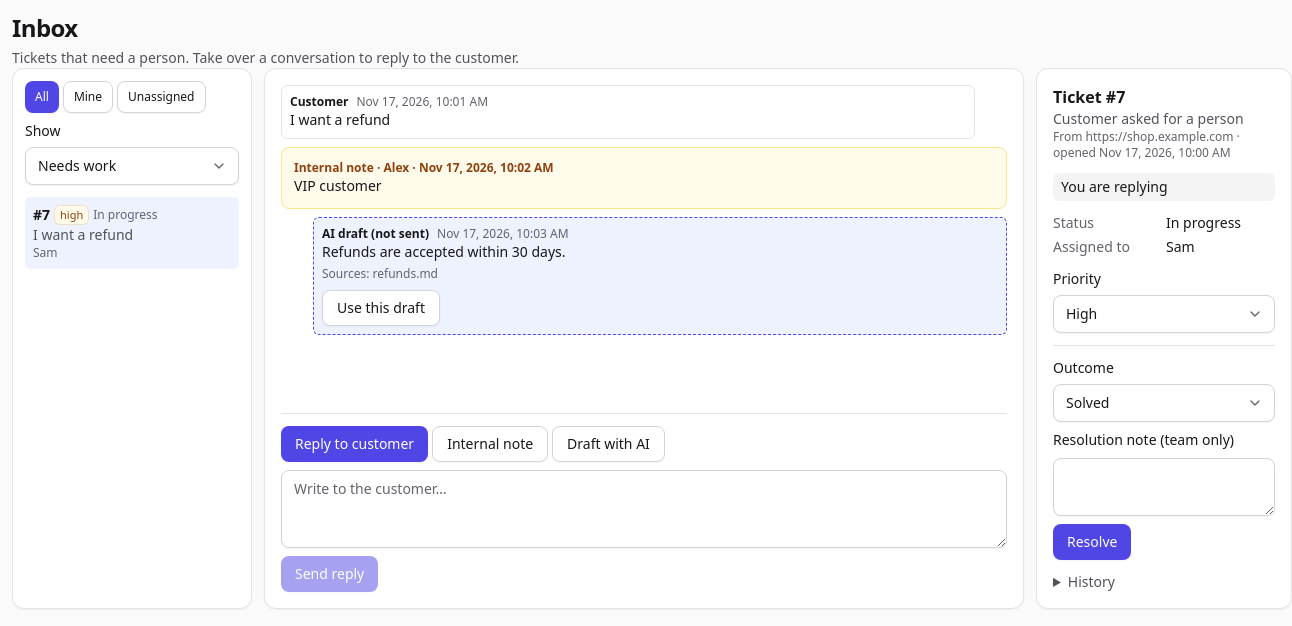
Test: agent inbox › lets the person working on it resolve with an outcome
Select "Duplicate" in the dropdown labelled "Outcome" at (1164, 403), box [1053,384,1275,422]
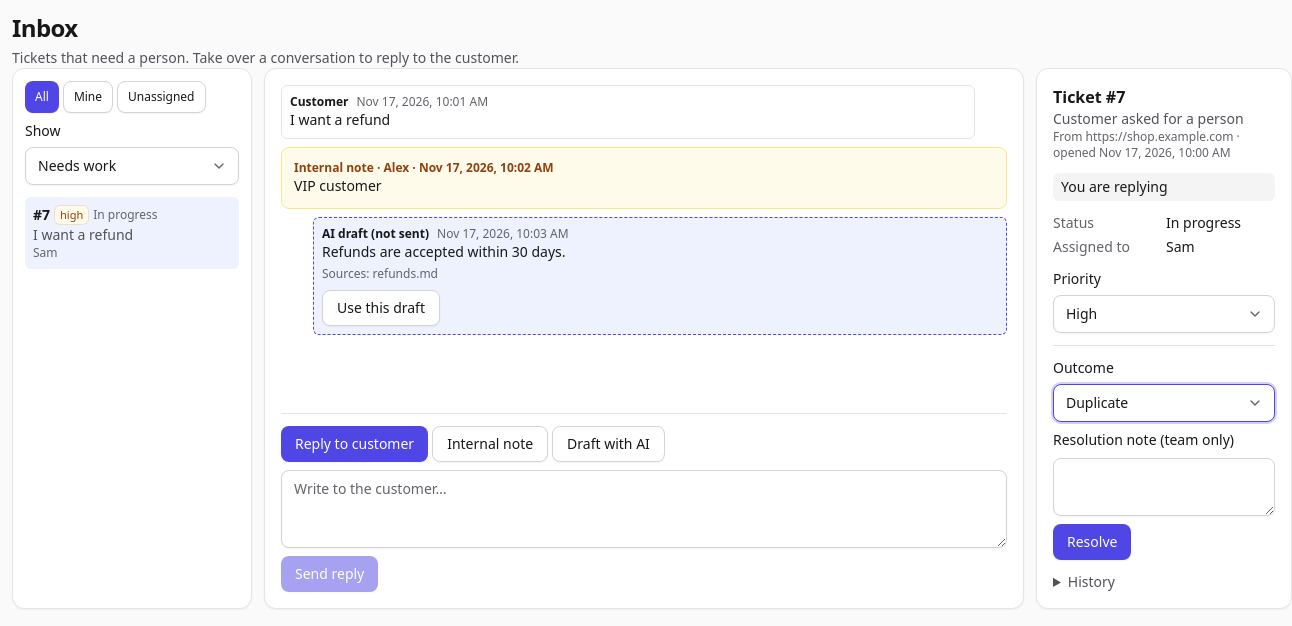
Click the button "Resolve".
click(1092, 542)  # box [1053,524,1131,560]
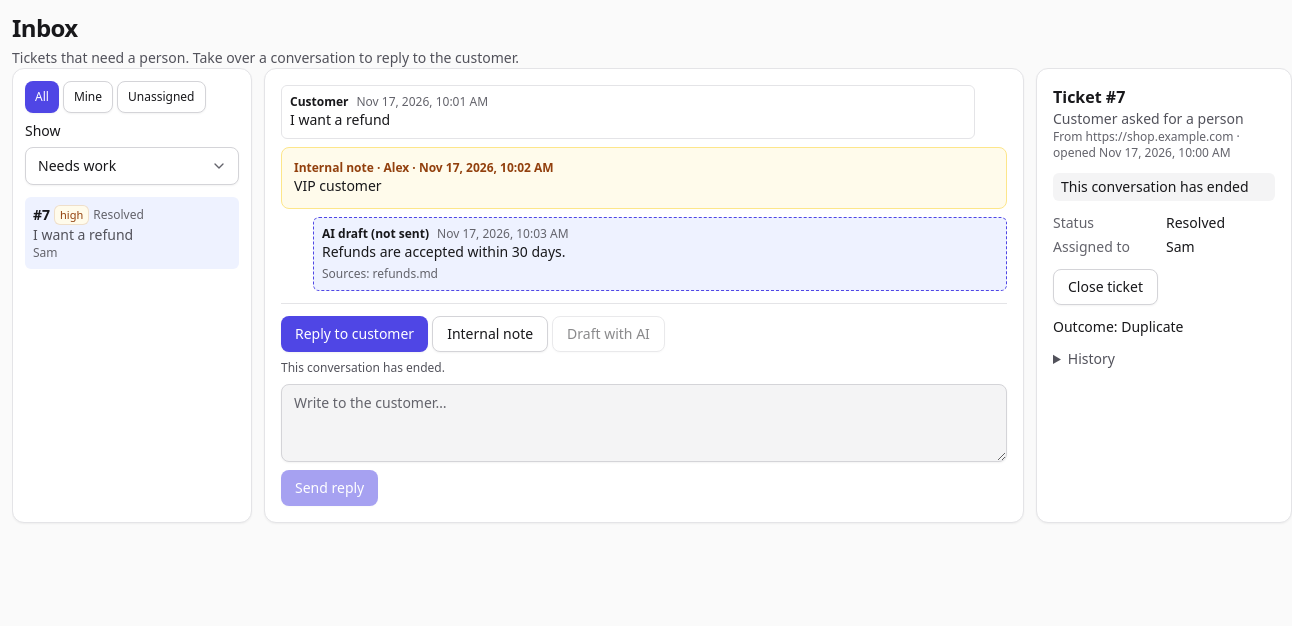
Now the text "This conversation has ended" is shown, box [1053,173,1275,201]
